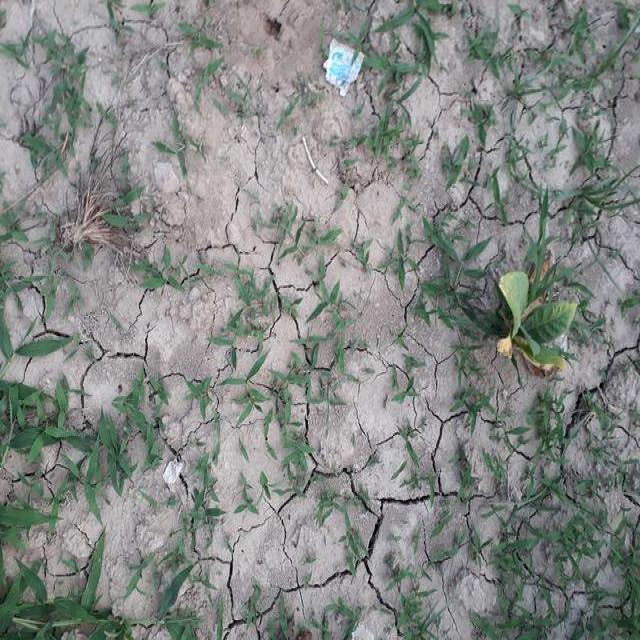crop: (488, 259, 590, 383)
